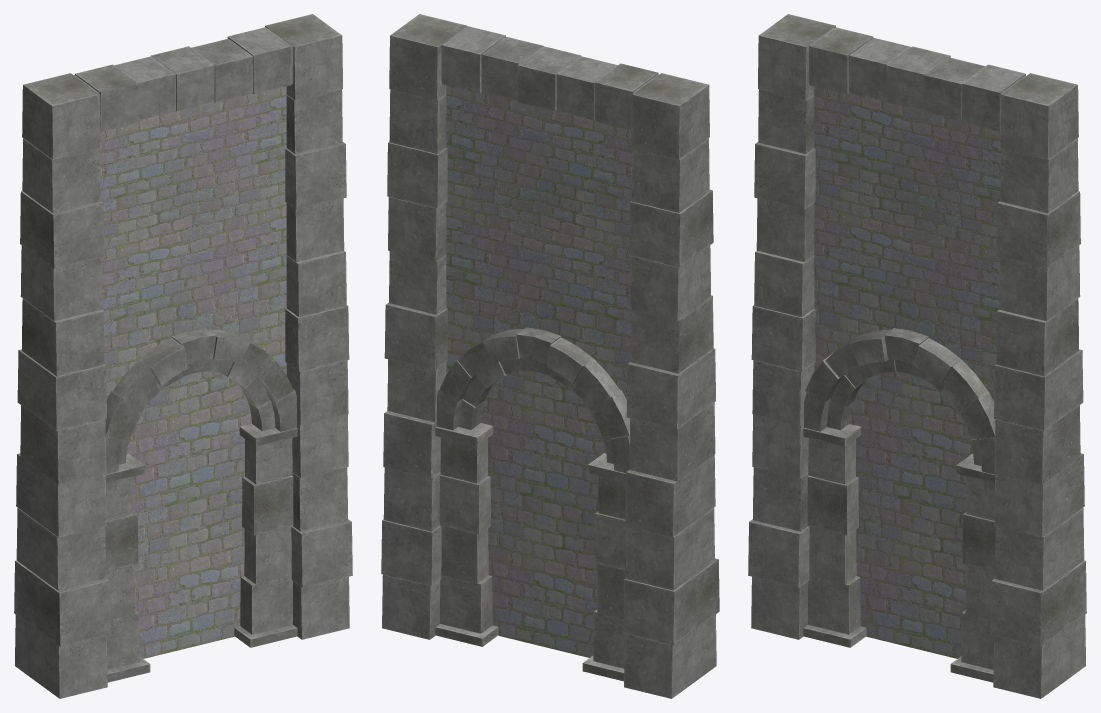
The model's file is SM_wall_modular_07.fbx.
3 views of the same model, side by side, from view 1: azimuth 30°, elevation 25°; view 2: azimuth 150°, elevation 25°; view 3: azimuth 330°, elevation 25° (orthographic).
Visible parts, largest first — view 1: DarkFantasyObject47; view 2: DarkFantasyObject47; view 3: DarkFantasyObject47.
Part boxes in pixels (x1,y1,x2,y2): DarkFantasyObject47: (14, 14, 352, 698); DarkFantasyObject47: (381, 14, 719, 698); DarkFantasyObject47: (748, 14, 1086, 698).
Bounding box in the file's own units: 207 × 397 × 57.28.
